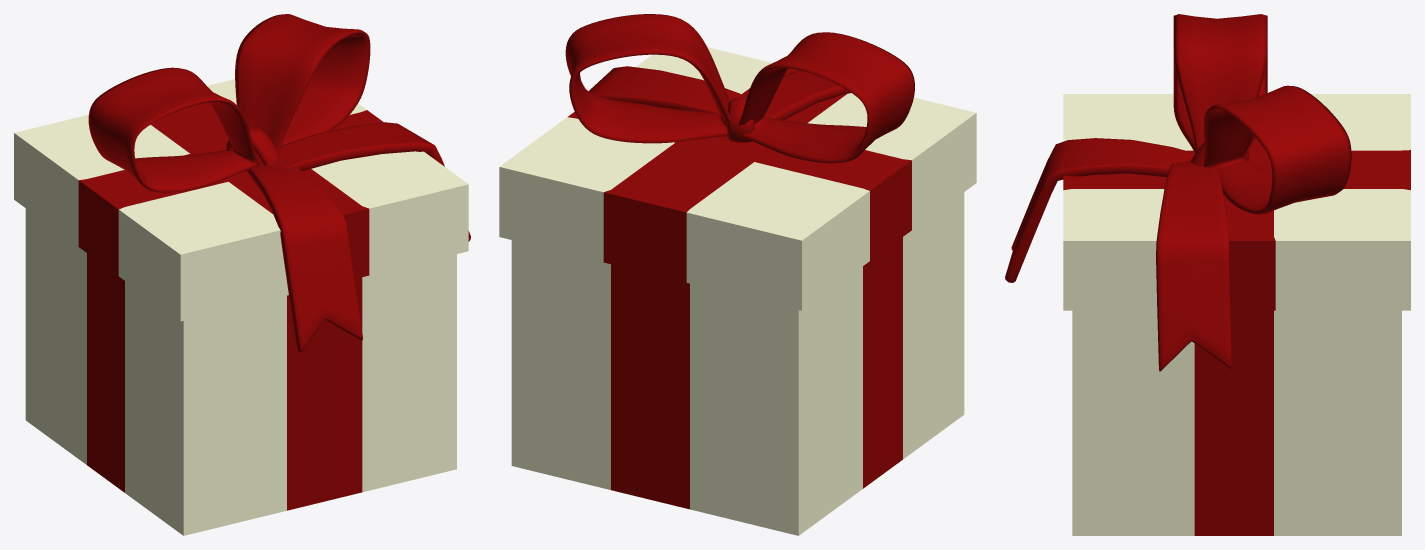
Rendered from pick up box.FBX.
3 renders of one model, left to right at view 1: azimuth 30°, elevation 25°; view 2: azimuth 150°, elevation 25°; view 3: azimuth 270°, elevation 25°, orthographic. The views are drawn at different scales.
Visible parts, largest first — view 1: Box001, Line001, Line002, Line004, Line005, Line003; view 2: Box001, Line002, Line001, Line005, Line004, Line003; view 3: Box001, Line001, Line005, Line002, Line004.
Part boxes in pixels (left/top/right/bottom): Box001: left=14, top=79, right=468, bottom=535; Line001: left=235, top=14, right=370, bottom=152; Line002: left=88, top=67, right=259, bottom=192; Line004: left=247, top=164, right=362, bottom=352; Line005: left=258, top=122, right=470, bottom=241; Line003: left=226, top=127, right=279, bottom=165; Box001: left=499, top=47, right=976, bottom=535; Line002: left=738, top=32, right=914, bottom=163; Line001: left=565, top=14, right=731, bottom=143; Line005: left=588, top=66, right=746, bottom=113; Line004: left=764, top=70, right=850, bottom=120; Line003: left=727, top=97, right=754, bottom=142; Box001: left=1063, top=94, right=1410, bottom=535; Line001: left=1203, top=85, right=1351, bottom=214; Line005: left=1156, top=160, right=1231, bottom=371; Line002: left=1173, top=14, right=1267, bottom=153; Line004: left=1005, top=138, right=1195, bottom=282.
Size of the model in its own units: 49.32 by 53.53 by 49.25.
